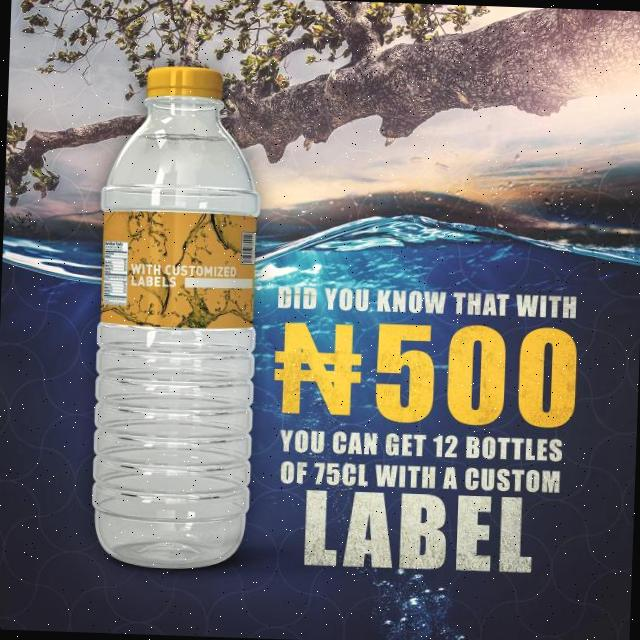bottle: (81, 45, 269, 592)
cap: (136, 60, 222, 101)
label: (94, 210, 260, 330)
